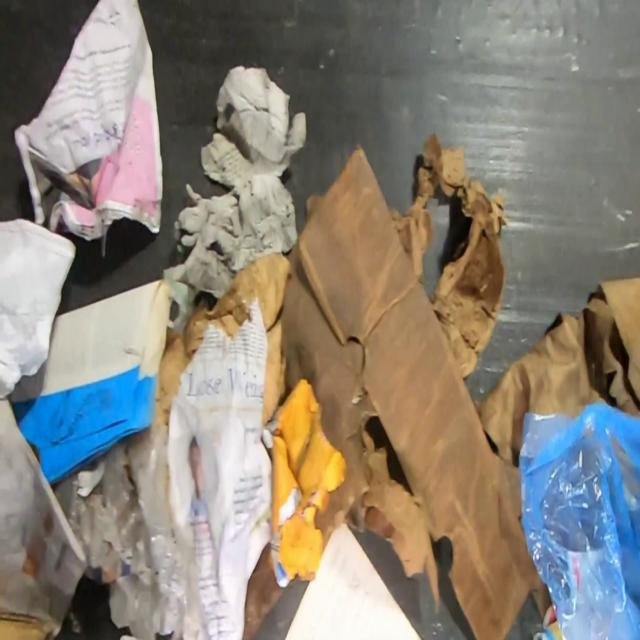cardboard: (296, 140, 553, 639), (389, 128, 509, 380), (154, 252, 293, 424), (260, 375, 350, 590), (358, 426, 440, 614), (0, 611, 56, 640)
soft_plastic: (517, 400, 640, 640), (66, 422, 196, 640)
